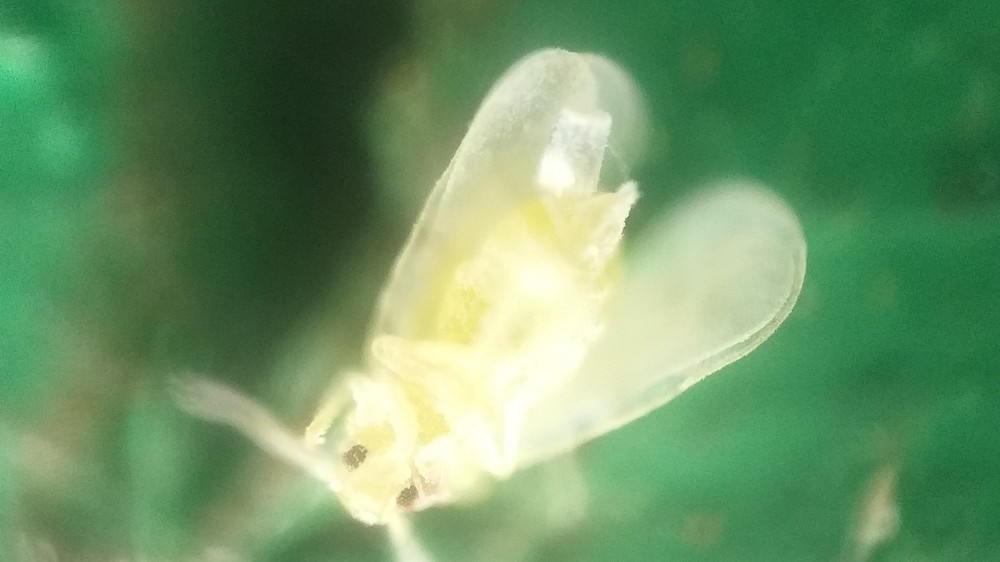Mosca Blanca: (162, 37, 815, 562)
